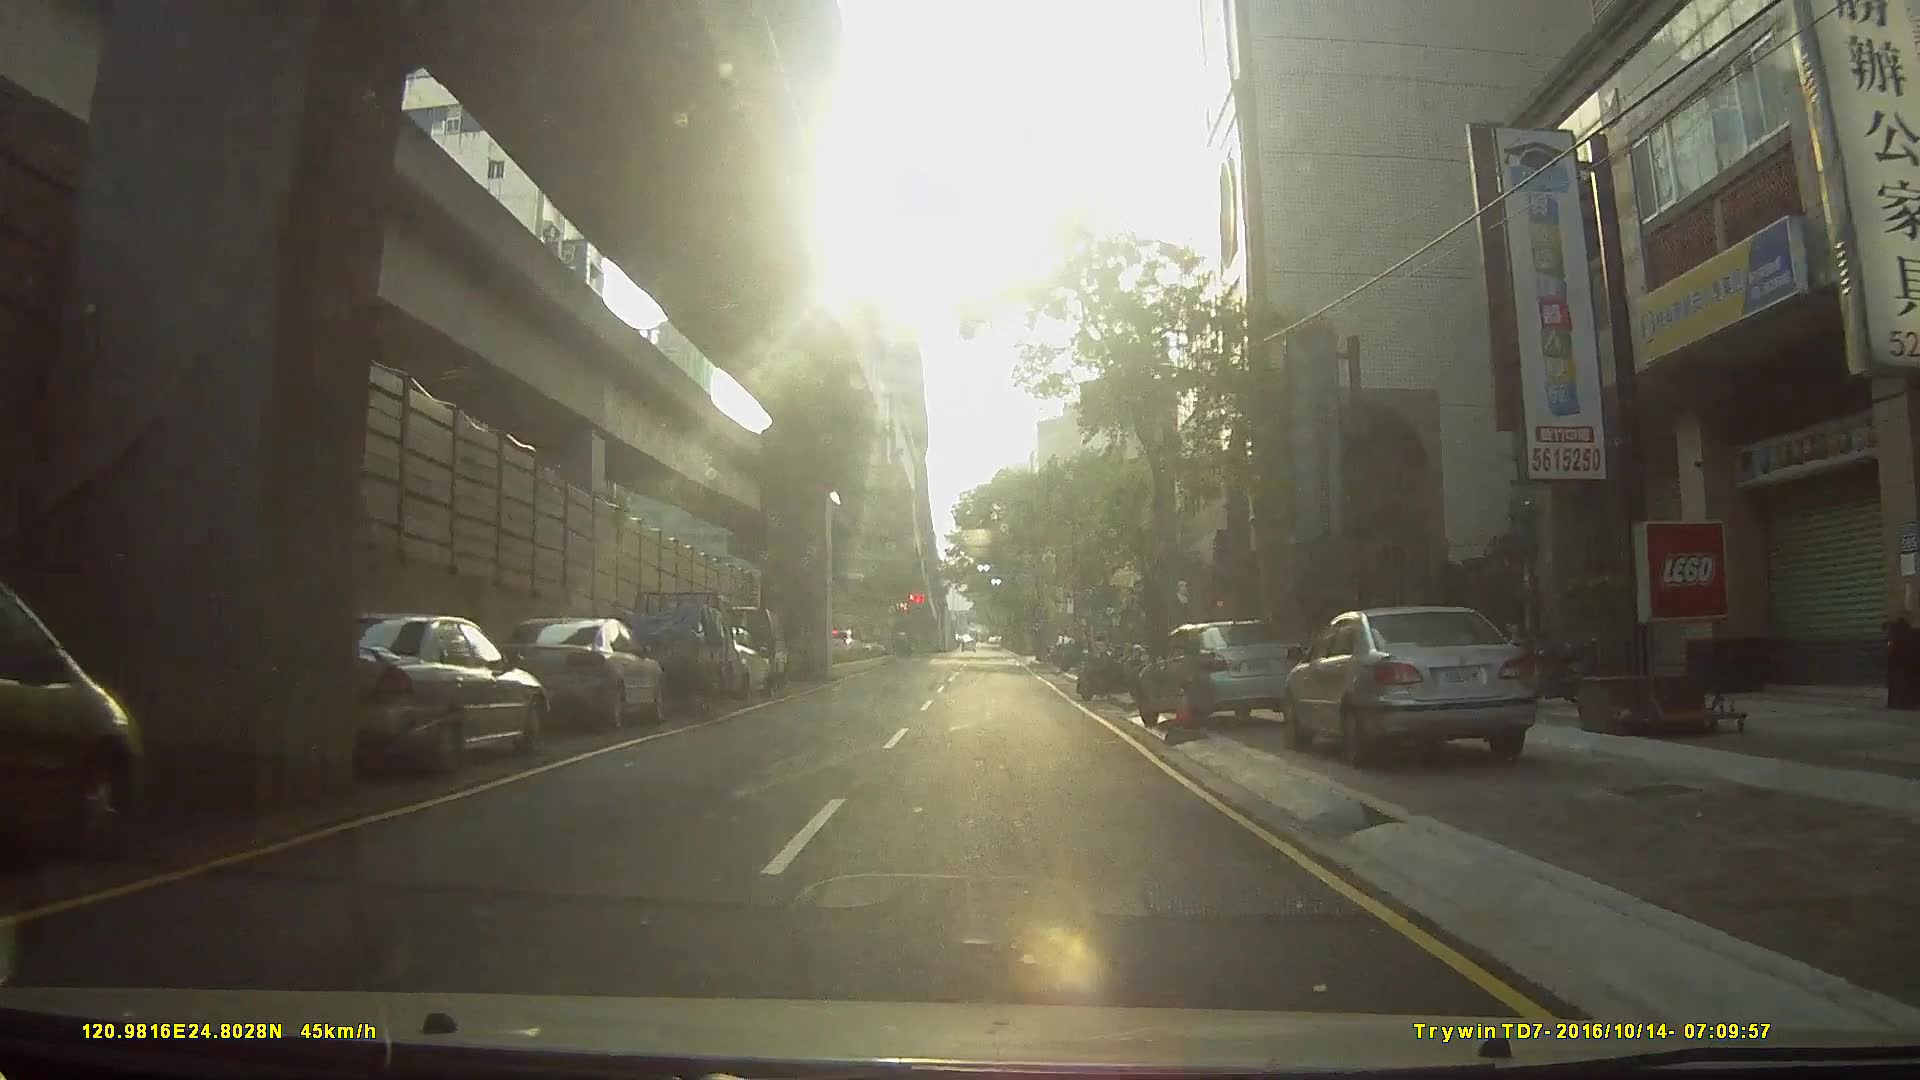rider: (1078, 627, 1142, 701)
vehicle: (285, 610, 554, 782), (1285, 601, 1556, 767), (1, 590, 160, 871), (481, 613, 660, 732), (1137, 613, 1315, 730), (602, 586, 736, 716)
